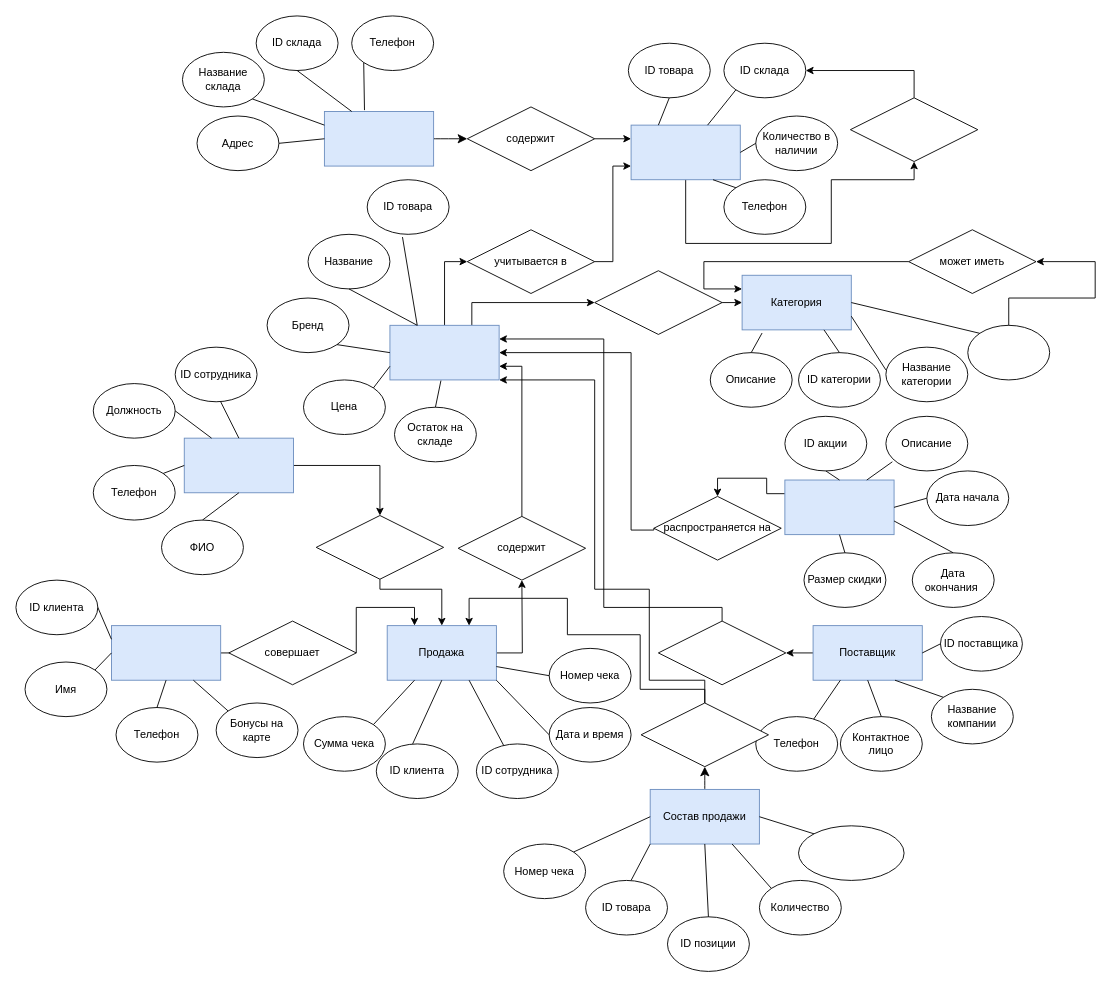
Image size: 1118x987. Some labels were removed from this diagram. The shapes that lost their labels are listed below. From the top down, each one's centre as x and y in pixels, then its label:
pixel 379 138: Склад
pixel 913 129: привязан
pixel 685 152: Складской запас
pixel 658 302: принадлежит
pixel 444 352: Товар
pixel 1008 352: ID родительской категории
pixel 238 465: Сотрудник
pixel 839 507: Акция
pixel 379 547: оформляет
pixel 166 652: Клиент
pixel 721 652: поставляет
pixel 704 734: связан с
pixel 851 852: Цена на момент продажи
